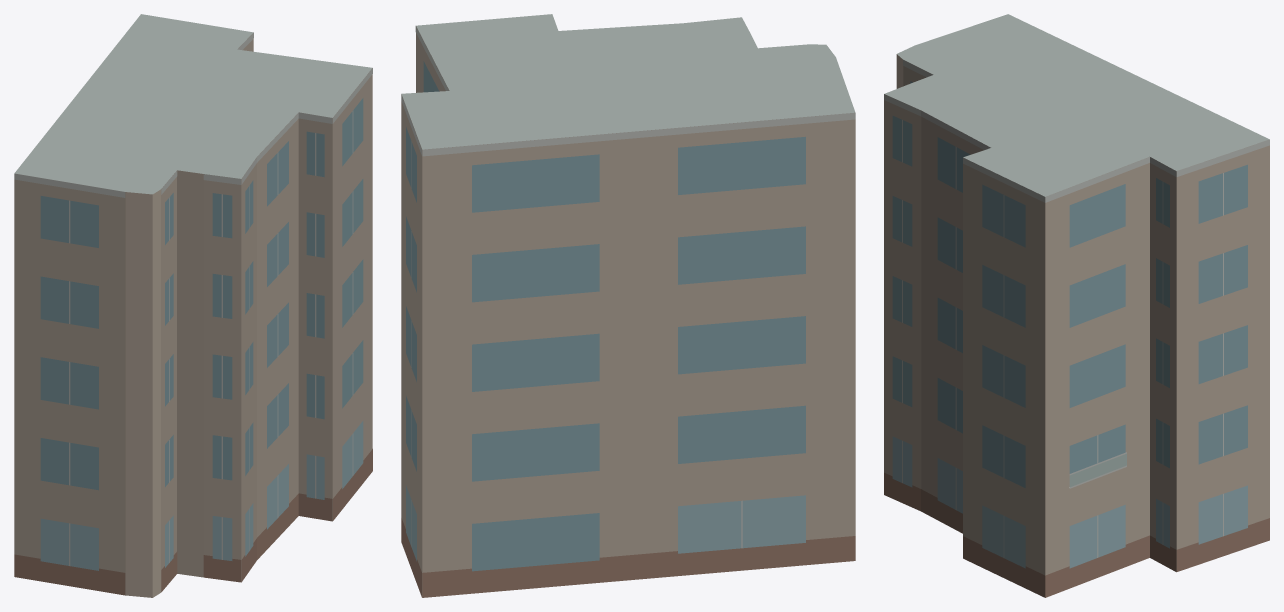
File: survey-upis-32889562.glb
3 renders of one model, left to right at view 1: azimuth 30°, elevation 25°; view 2: azimuth 150°, elevation 25°; view 3: azimuth 270°, elevation 25°, orthographic. The views are drawn at different scales.
Visible parts, largest first — view 1: survey-upis-32889562.tmp; view 2: survey-upis-32889562.tmp; view 3: survey-upis-32889562.tmp.
Part boxes in pixels (bbox=[...]): survey-upis-32889562.tmp: bbox=[14, 14, 372, 597]; survey-upis-32889562.tmp: bbox=[401, 14, 855, 597]; survey-upis-32889562.tmp: bbox=[884, 14, 1269, 597].
Bounding box in the file's own units: 15.75 × 16.1 × 14.04.
